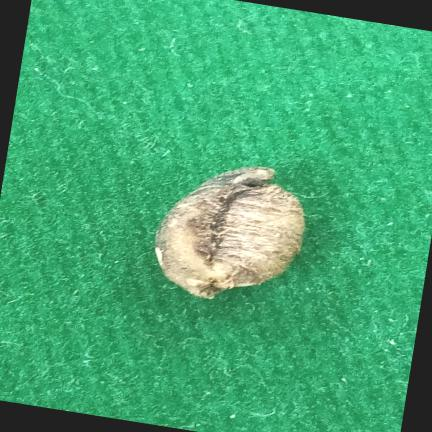partial-black: (155, 167, 305, 299)
